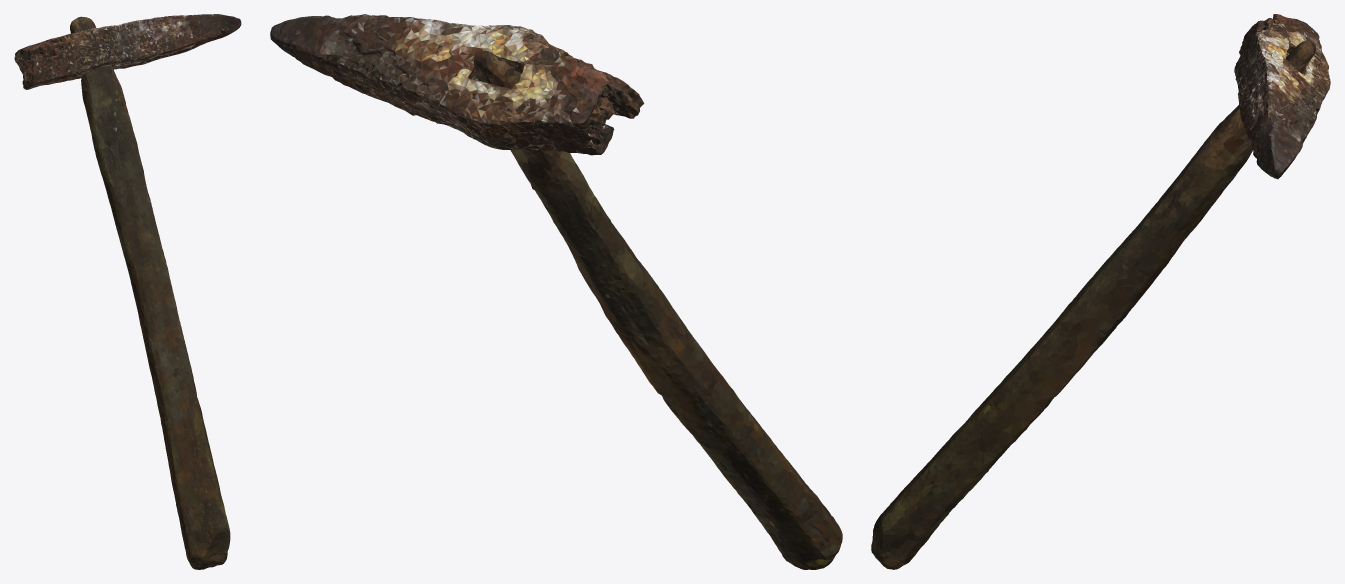
Rendered from martello2.obj.
3 views of the same model, side by side, from view 1: azimuth 30°, elevation 25°; view 2: azimuth 150°, elevation 25°; view 3: azimuth 270°, elevation 25° (orthographic). The views are drawn at different scales.
Parts seen in each view (by area): view 1: martello2; view 2: martello2; view 3: martello2.
Part boxes in pixels (<box>): martello2: <box>14,14,241,569</box>; martello2: <box>270,14,842,569</box>; martello2: <box>871,14,1330,569</box>.
Size of the model in its own units: 0.5813 by 1.09 by 0.8222.
Materials: 1 (1 with a texture image).
